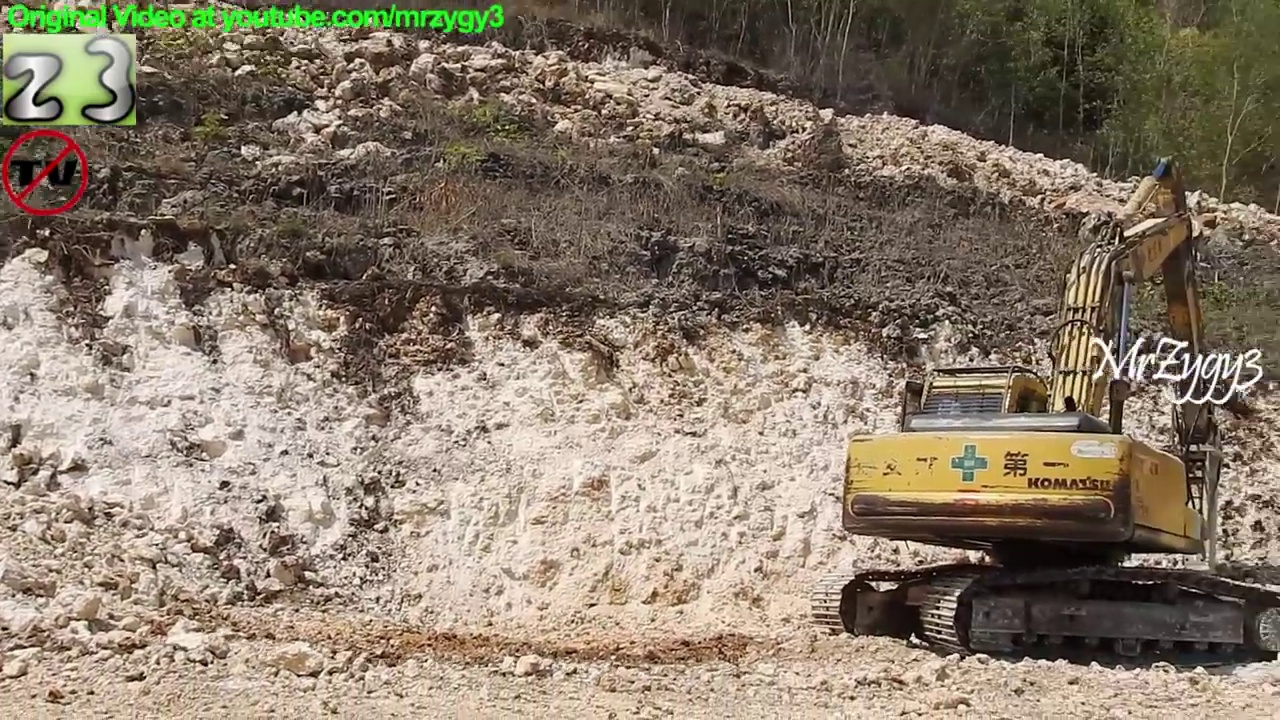excavator breaker: (802, 150, 1280, 675)
